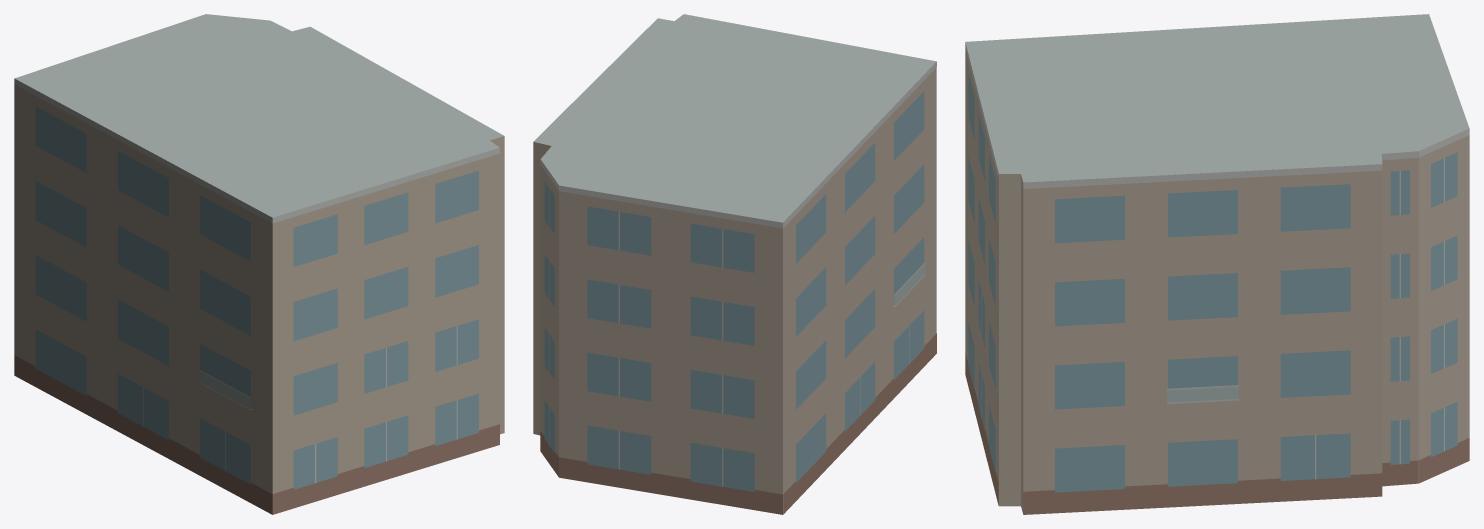
Rendered from survey-upis-32548752.glb.
3 renders of one model, left to right at view 1: azimuth 30°, elevation 25°; view 2: azimuth 150°, elevation 25°; view 3: azimuth 270°, elevation 25°, orthographic. The views are drawn at different scales.
Visible parts, largest first — view 1: survey-upis-32548752.tmp; view 2: survey-upis-32548752.tmp; view 3: survey-upis-32548752.tmp.
Boxes of the visible parts, <box> form: survey-upis-32548752.tmp: <box>14,14,504,514</box>; survey-upis-32548752.tmp: <box>533,14,936,514</box>; survey-upis-32548752.tmp: <box>965,14,1469,514</box>.
Bounding box in the file's own units: 13.49 × 12.4 × 17.06.
